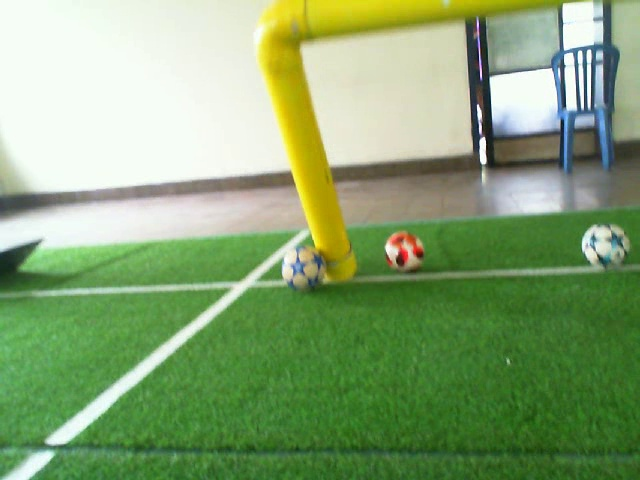ball: (580, 220, 632, 270), (280, 244, 328, 293), (383, 229, 427, 274)
